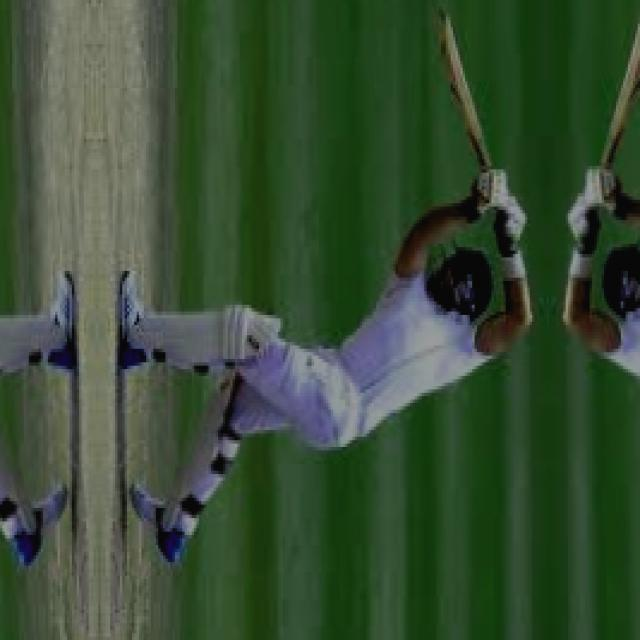toe: (433, 17, 466, 66)
